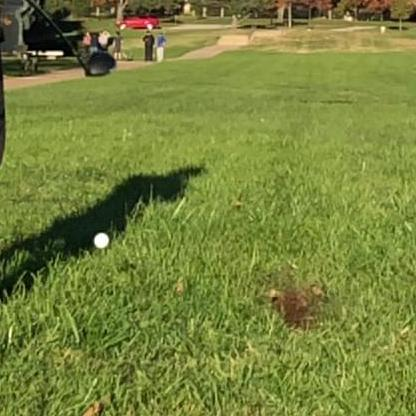golfball: (91, 228, 108, 247)
